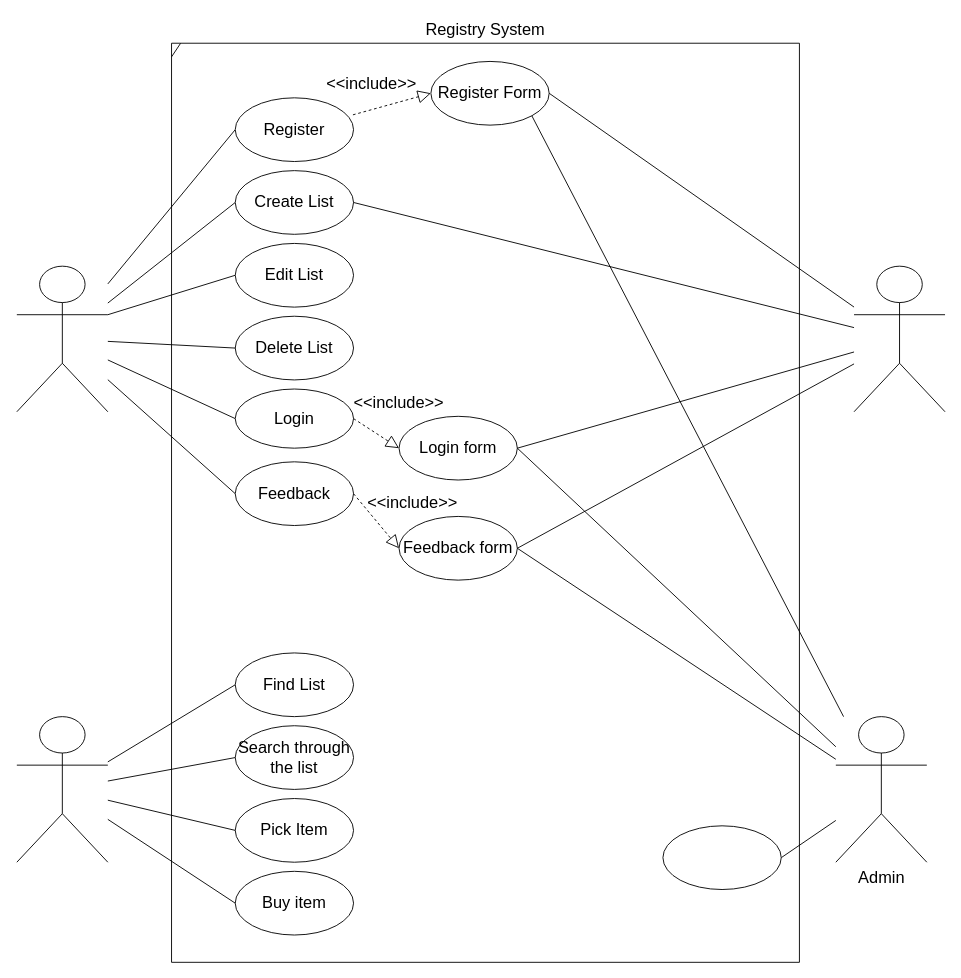
This 961x978 diagram has some shape labels left out. Each missing label, with the centre of its shape:
"Database" goes at (x=899, y=338).
"Manage purchasing" goes at (x=721, y=857).
"User (Guest)" goes at (x=62, y=789).
"User (Host)" goes at (x=62, y=338).
